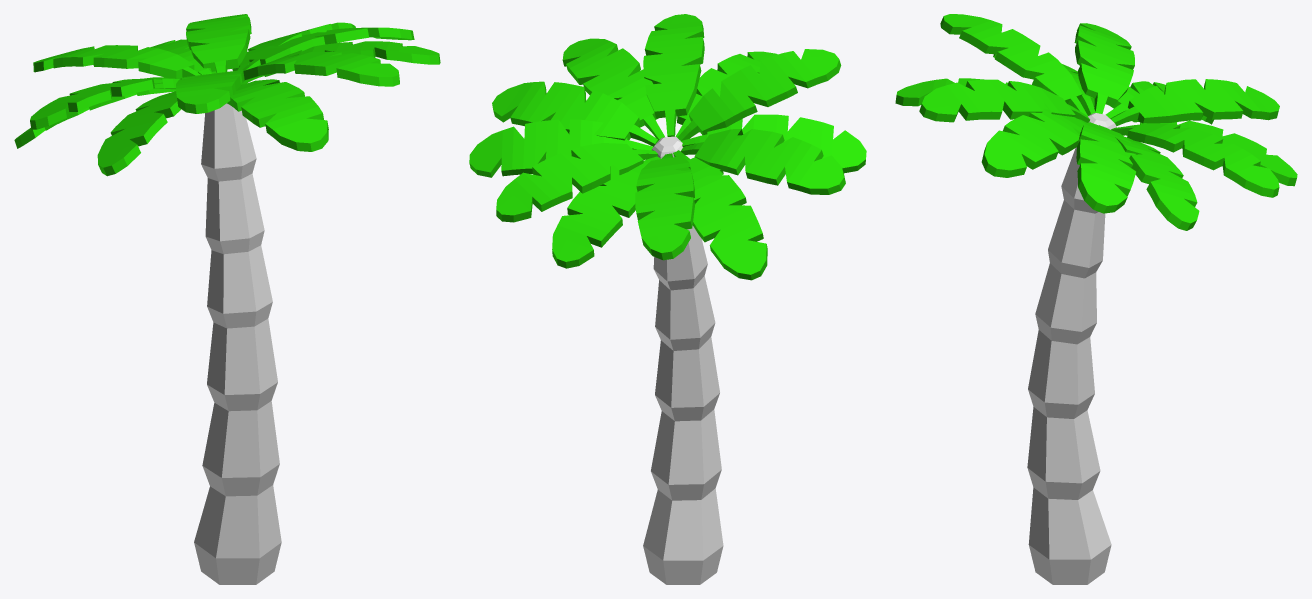
The model's file is PalmTree.fbx.
3 renders of one model, left to right at view 1: azimuth 30°, elevation 25°; view 2: azimuth 150°, elevation 25°; view 3: azimuth 270°, elevation 25°, orthographic. The views are drawn at different scales.
Visible parts, largest first — view 1: TreeTrunk, TreeLeaves; view 2: TreeLeaves, TreeTrunk; view 3: TreeLeaves, TreeTrunk.
Boxes of the visible parts, x1,y1,x2,y2 form: TreeTrunk: (194, 103, 281, 584); TreeLeaves: (14, 14, 440, 176); TreeLeaves: (469, 14, 866, 280); TreeTrunk: (643, 136, 723, 584); TreeLeaves: (895, 14, 1297, 230); TreeTrunk: (1027, 113, 1116, 584).
Bounding box in the file's own units: 367 × 503 × 357.
